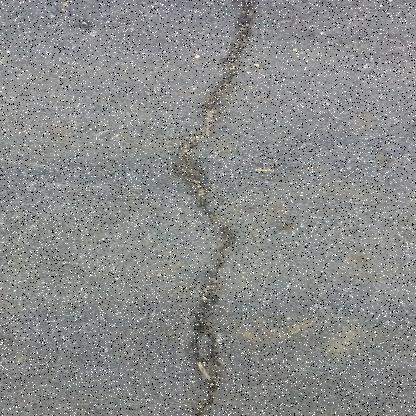Cracks: (147, 0, 267, 415)
